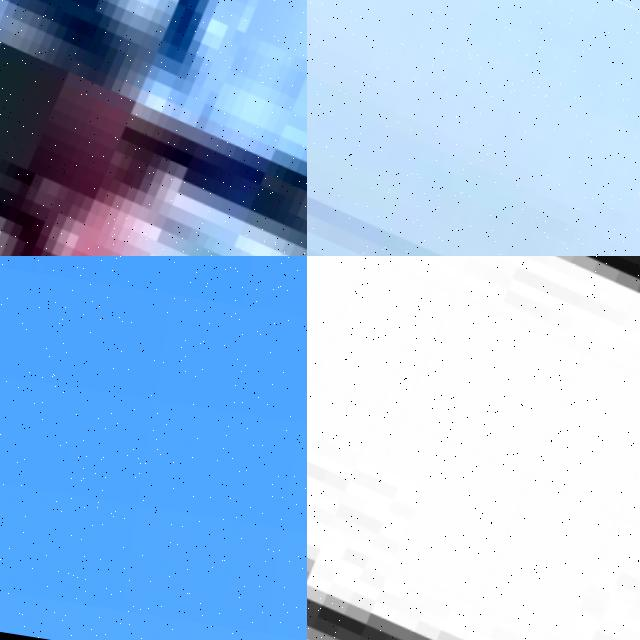drone: (307, 256, 640, 640), (307, 0, 640, 256), (0, 0, 307, 256)
